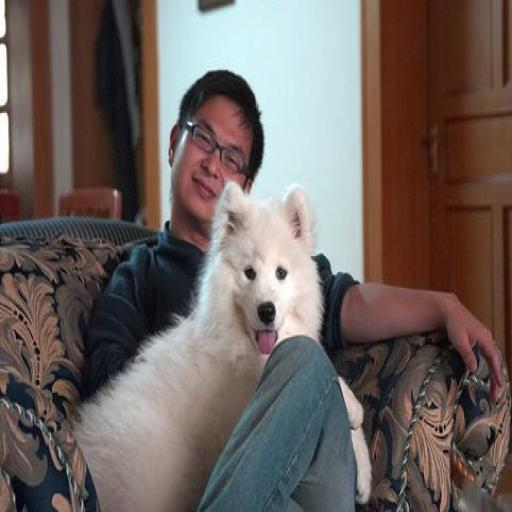dog_face: (217, 182, 312, 355)
